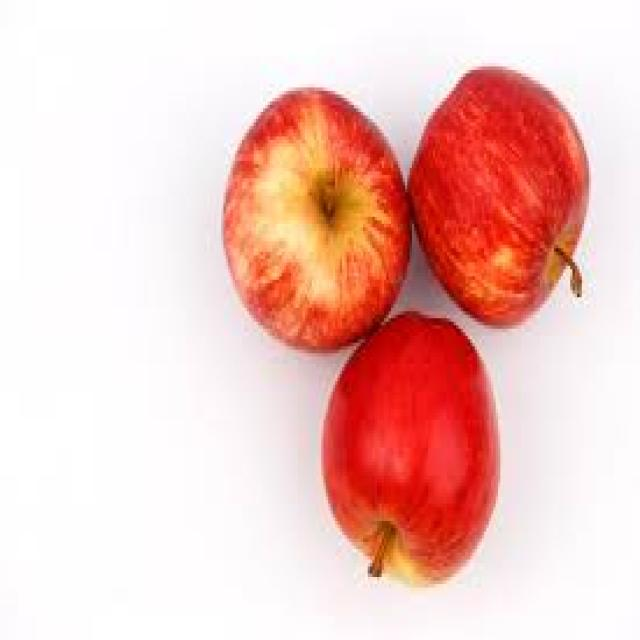apple: (324, 306, 516, 594)
